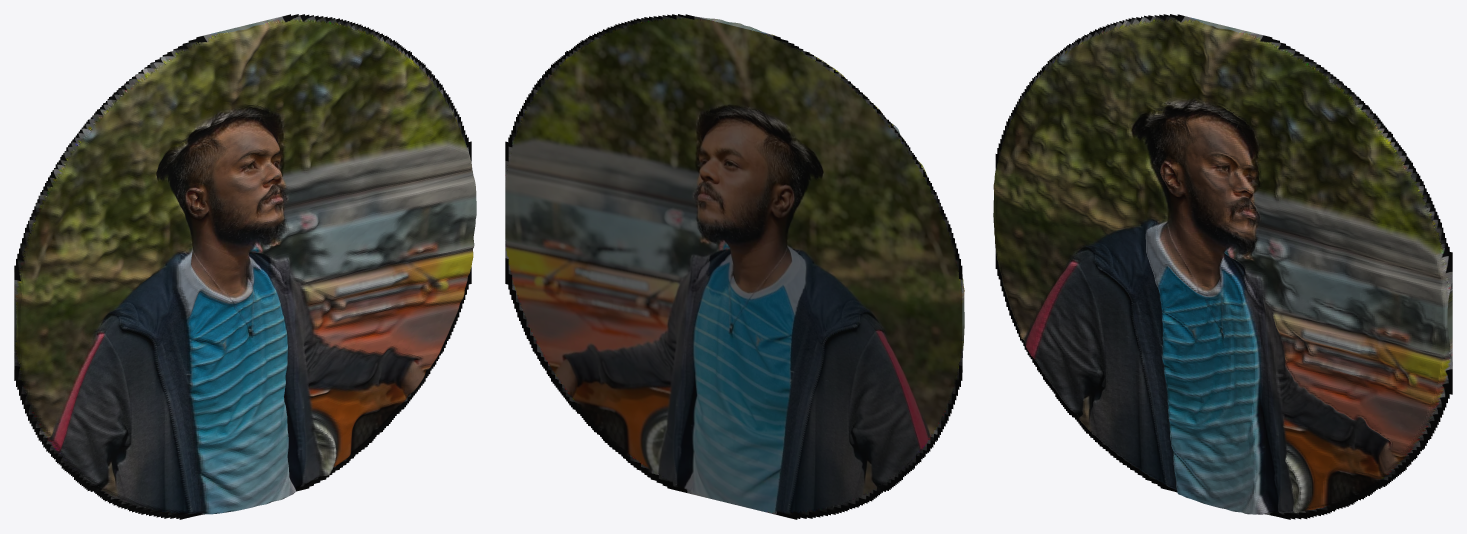
The model's file is 3dpea (2).glb.
3 views of the same model, side by side, from view 1: azimuth 30°, elevation 25°; view 2: azimuth 150°, elevation 25°; view 3: azimuth 330°, elevation 25° (orthographic).
Parts seen in each view (by area): view 1: mesh_0; view 2: mesh_0; view 3: mesh_0.
Boxes of the visible parts, left/top/right/bottom form: mesh_0: left=14, top=14, right=476, bottom=519; mesh_0: left=505, top=14, right=964, bottom=519; mesh_0: left=993, top=14, right=1452, bottom=519.
Bounding box in the file's own units: 299 × 299 × 9.56.
1 material, 1 textured.
